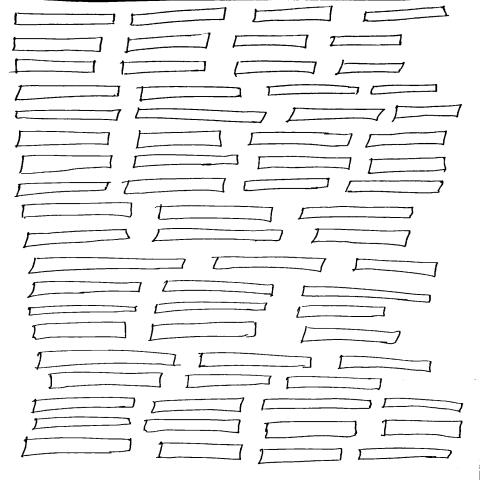Textbox: (35, 350, 179, 371), (27, 258, 187, 275), (20, 437, 134, 459), (301, 287, 432, 305), (23, 229, 131, 250), (149, 322, 258, 342), (121, 178, 229, 198), (311, 228, 412, 249), (26, 281, 143, 299), (157, 205, 274, 223), (19, 154, 114, 176), (135, 109, 268, 124), (152, 229, 285, 244), (48, 373, 163, 390), (162, 280, 275, 297), (130, 8, 228, 27), (300, 327, 403, 345), (32, 322, 129, 341), (212, 257, 327, 273), (198, 353, 313, 369), (125, 33, 212, 54), (15, 85, 122, 102), (22, 203, 134, 219), (265, 421, 359, 440), (136, 130, 224, 150), (298, 206, 415, 221), (247, 132, 354, 148), (15, 182, 115, 199), (137, 86, 243, 102), (33, 398, 137, 414), (363, 131, 450, 150), (15, 131, 111, 148), (286, 107, 388, 123), (287, 375, 383, 392), (155, 443, 245, 461), (354, 259, 439, 278), (133, 154, 240, 169), (339, 356, 433, 373), (258, 448, 345, 466), (382, 420, 464, 439), (150, 398, 245, 414), (363, 6, 451, 23), (251, 6, 334, 24), (12, 37, 105, 53), (154, 302, 268, 315), (367, 157, 449, 175), (144, 419, 241, 434), (120, 60, 208, 76), (345, 180, 445, 194), (33, 417, 133, 431), (295, 305, 388, 320), (185, 374, 272, 390), (15, 109, 122, 122), (391, 103, 463, 122), (257, 156, 354, 170), (15, 13, 118, 26), (243, 178, 332, 193), (261, 399, 372, 411), (14, 59, 97, 75), (234, 61, 317, 77), (29, 305, 138, 317), (358, 448, 454, 461), (382, 398, 464, 413), (232, 35, 310, 50), (267, 85, 361, 97), (334, 62, 406, 76), (330, 35, 404, 48), (370, 84, 440, 96)
